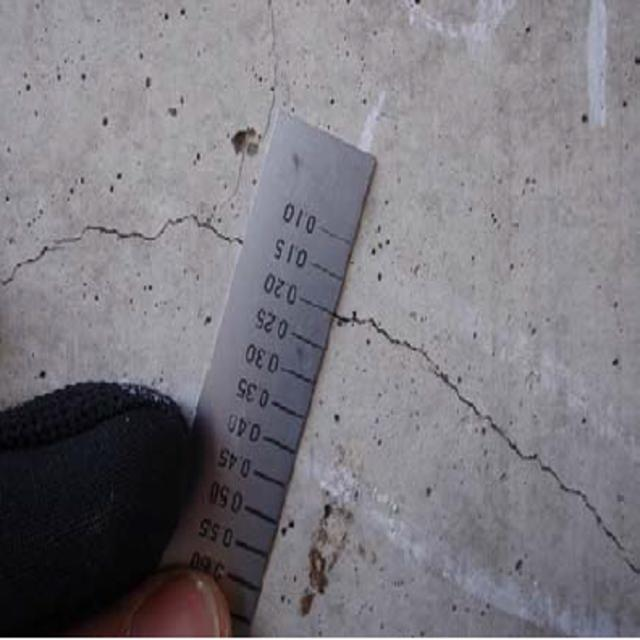crack: (331, 304, 636, 574), (2, 204, 247, 296), (237, 9, 299, 164)
